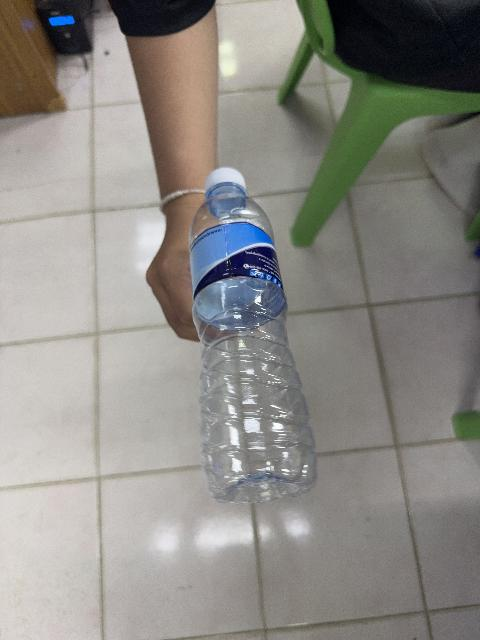bottle: (190, 168, 316, 503)
